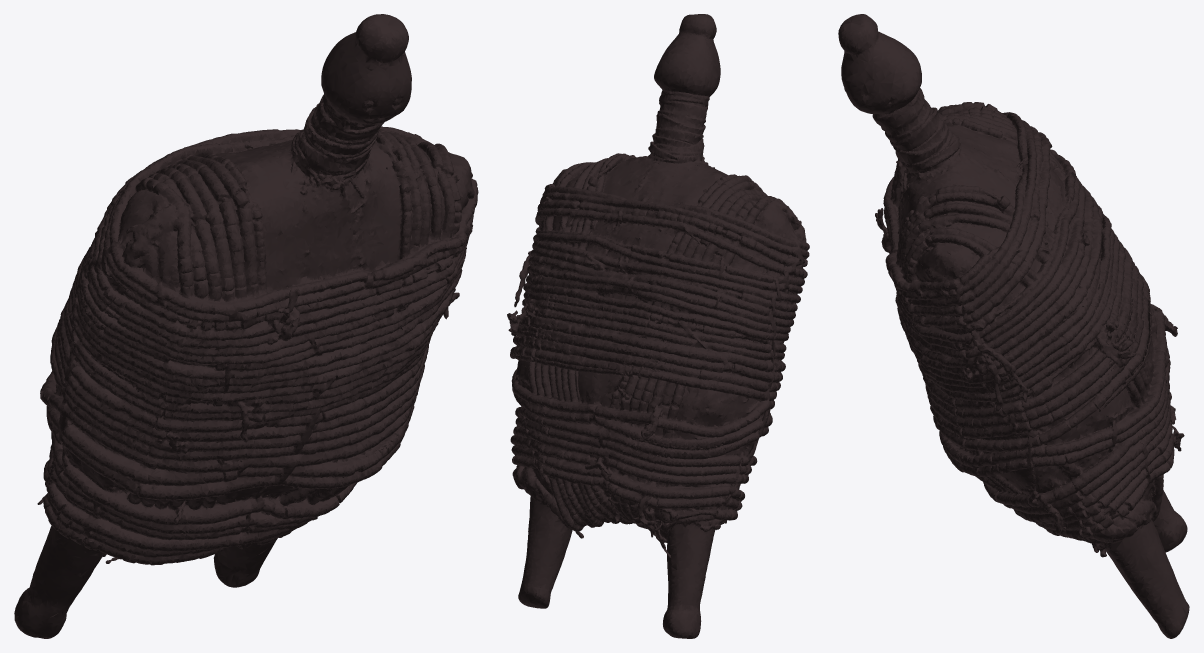
File: preview.glb
The picture shows the model from 3 angles, left to right: view 1: azimuth 30°, elevation 25°; view 2: azimuth 150°, elevation 25°; view 3: azimuth 270°, elevation 25°; orthographic projection. The views are drawn at different scales.
Parts seen in each view (by area): view 1: Object_2; view 2: Object_2; view 3: Object_2.
Part boxes in pixels (left/top/right/bottom): Object_2: left=14, top=14, right=478, bottom=638; Object_2: left=507, top=14, right=809, bottom=638; Object_2: left=838, top=14, right=1189, bottom=638.
Size of the model in its own units: 133 by 241 by 128.
1 material, 1 textured.
